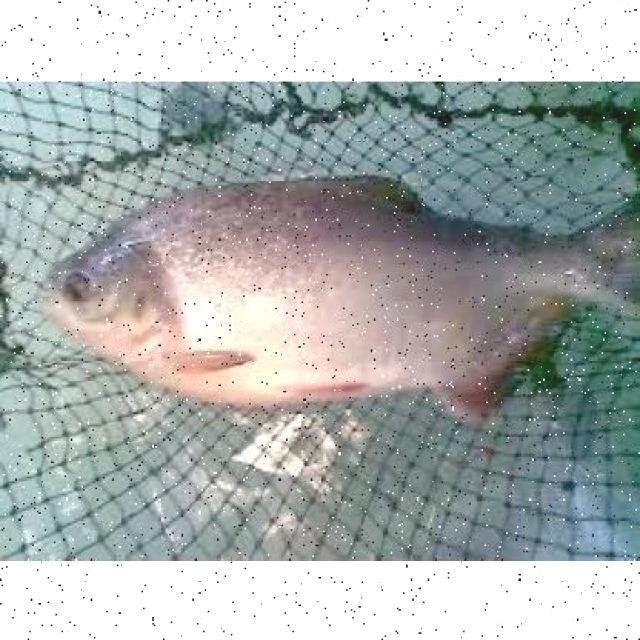ikan-pacu: (43, 173, 602, 399)
